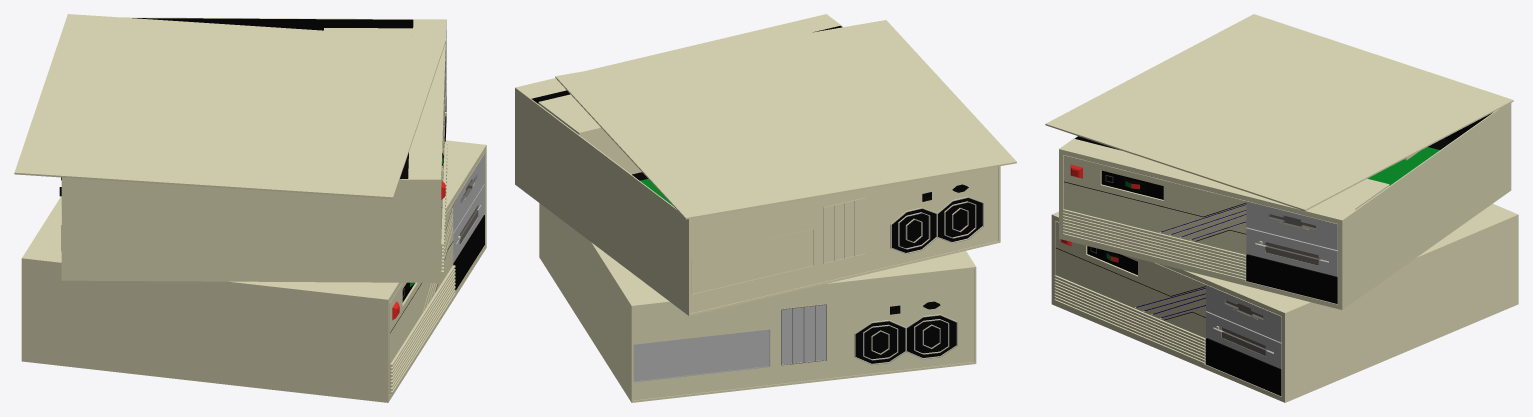
Rendered from PC-Main.fbx.
The picture shows the model from 3 angles, left to right: view 1: azimuth 30°, elevation 25°; view 2: azimuth 150°, elevation 25°; view 3: azimuth 270°, elevation 25°; orthographic projection. The views are drawn at different scales.
Visible parts, largest first — view 1: PC-Main; view 2: PC-Main; view 3: PC-Main.
Part boxes in pixels (left/top/right/bottom): PC-Main: left=14, top=14, right=486, bottom=402; PC-Main: left=515, top=14, right=1016, bottom=402; PC-Main: left=1045, top=14, right=1518, bottom=402.
Size of the model in its own units: 149 by 60.48 by 143.
